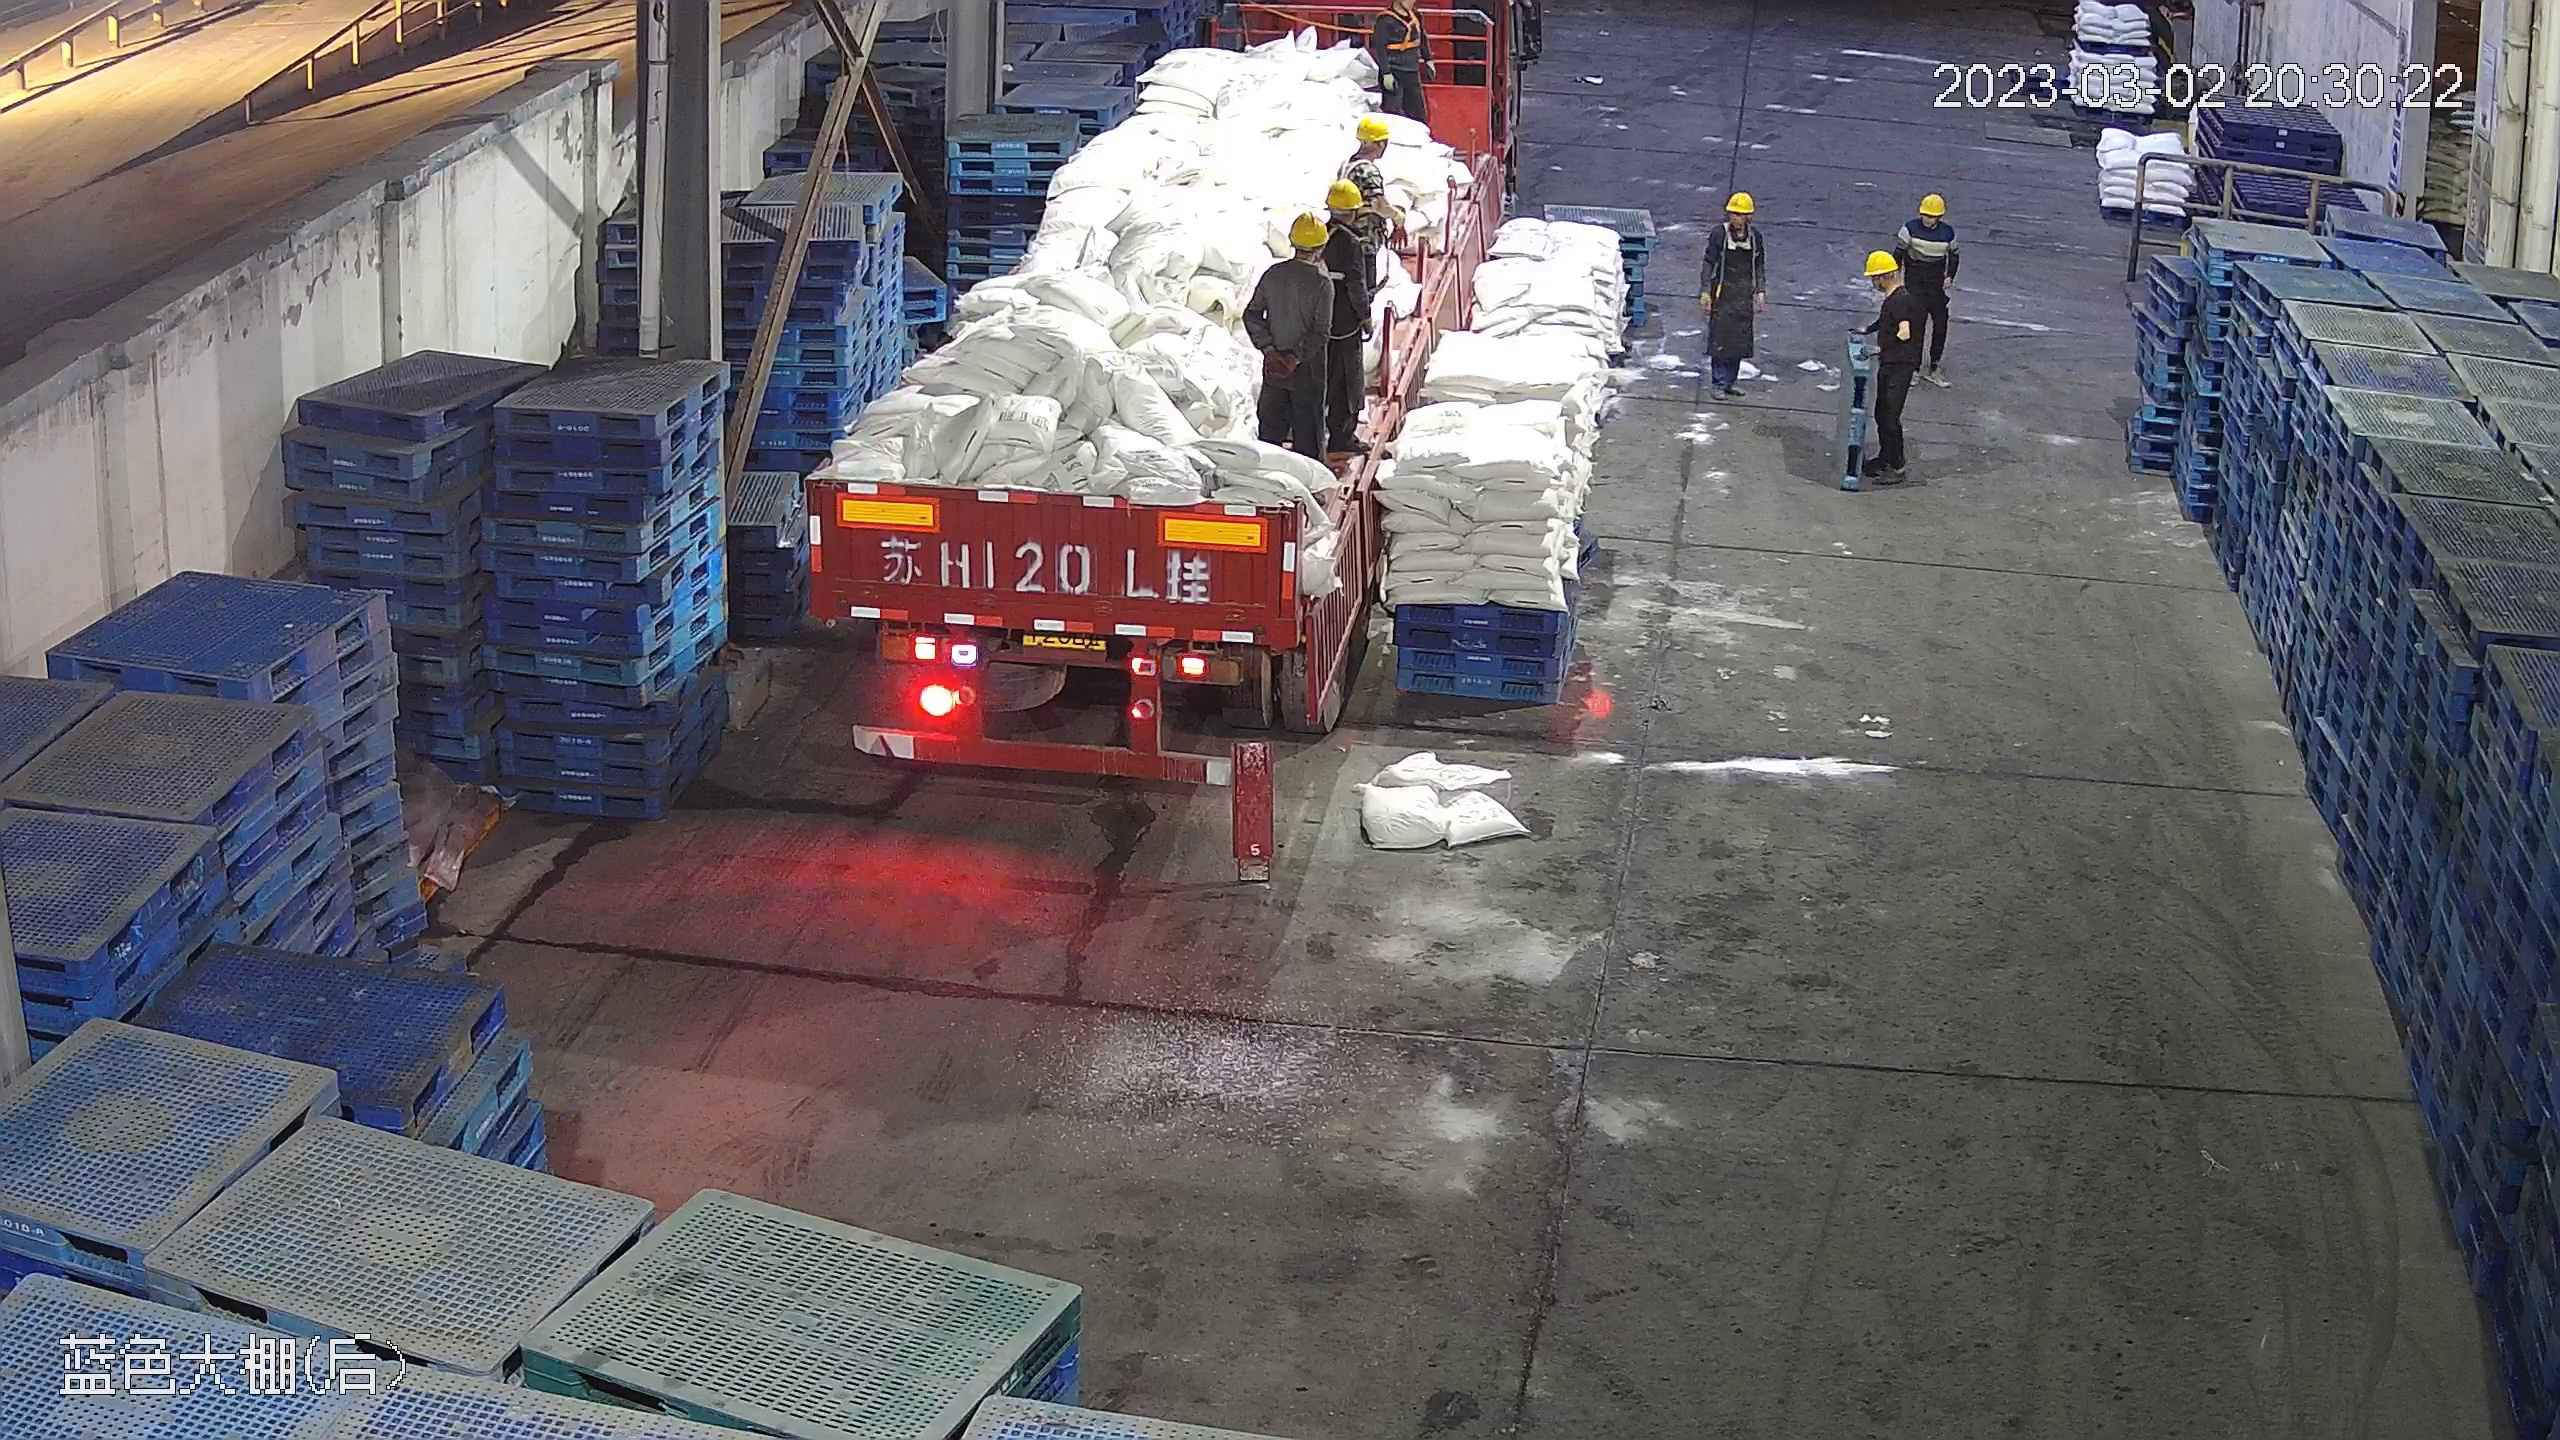belt: (1377, 8, 1423, 52), (1324, 223, 1346, 280), (1723, 222, 1754, 254), (1338, 154, 1379, 180)
head: (1258, 209, 1347, 300), (1318, 189, 1382, 258), (1857, 248, 1912, 322), (1706, 189, 1764, 253), (1342, 115, 1397, 173), (1906, 191, 1953, 248)
helmet: (1283, 210, 1332, 250), (1861, 248, 1902, 279), (1327, 175, 1365, 206), (1357, 114, 1390, 139), (1724, 189, 1755, 212), (1919, 191, 1946, 213)
people: (1244, 206, 1352, 459), (1850, 245, 1924, 484), (1698, 187, 1768, 387), (1899, 192, 1958, 369)
truck: (796, 11, 1479, 769)
